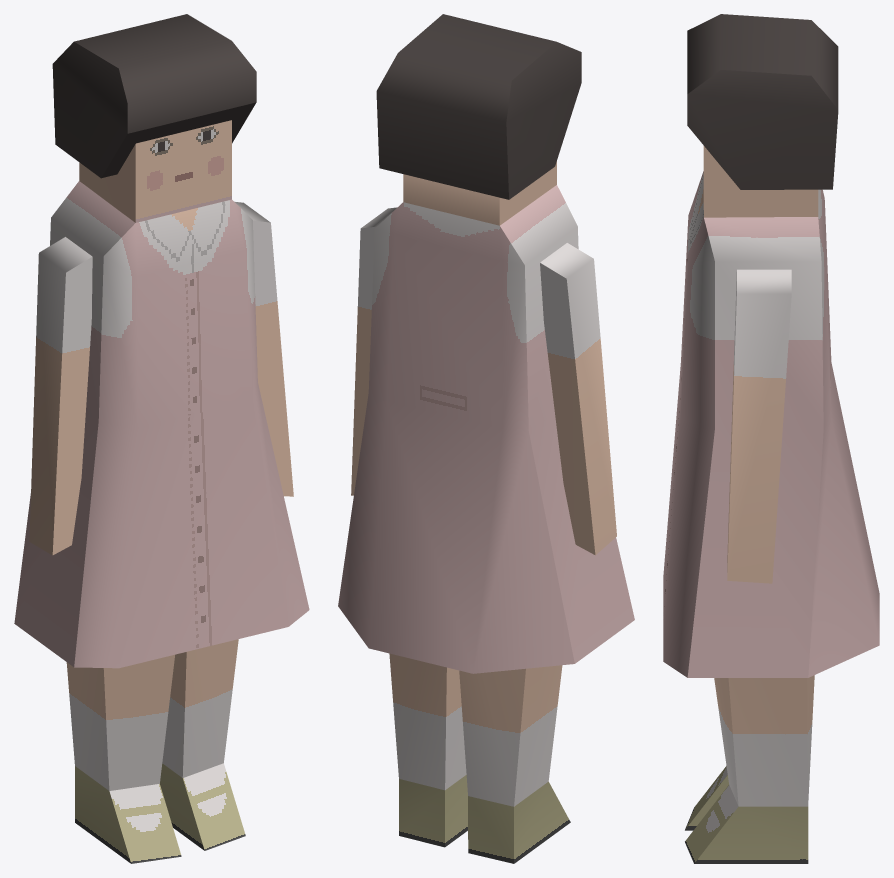
Rendered from 0224_Precious.glb.
3 views of the same model, side by side, from view 1: azimuth 30°, elevation 25°; view 2: azimuth 150°, elevation 25°; view 3: azimuth 270°, elevation 25° (orthographic).
Parts seen in each view (by area): view 1: part_0; view 2: part_0; view 3: part_0.
Boxes of the visible parts, x1=… form: part_0: x1=14, y1=14, x2=309, y2=863; part_0: x1=338, y1=14, x2=634, y2=863; part_0: x1=663, y1=14, x2=879, y2=863.
Bounding box in the file's own units: 0.3232 × 0.9991 × 0.2469.
1 material, 1 textured.
